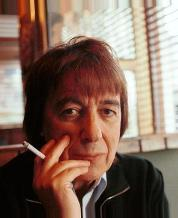face: (58, 96, 118, 162)
